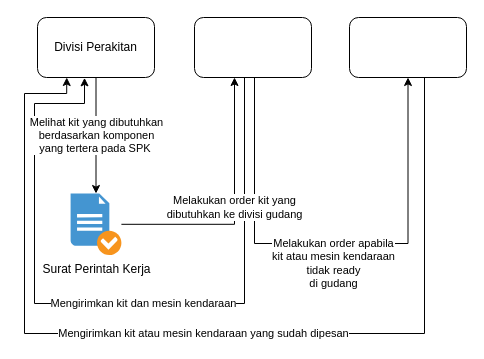
This 484x359 diagram has some shape labels left out. Here are the shapes that lost their labels. From the top down, the box of each, then its label:
(194, 16, 312, 78): Divisi Gudang
(348, 16, 466, 78): Divisi Purchasing
